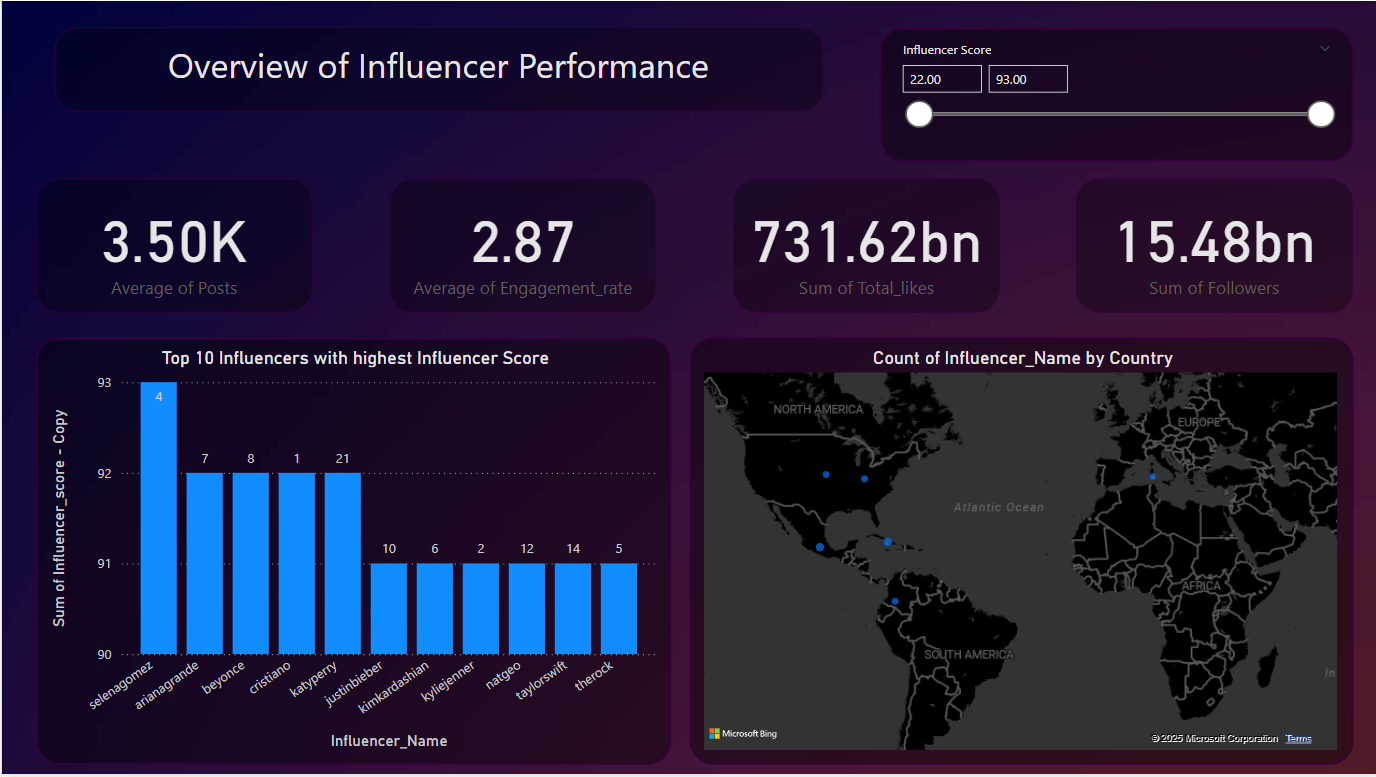

The dashboard page shown, as its layout file describes it:
{"tool":"powerbi","page":{"name":"Dashboard Pg1","canvas":[1280,720],"ordinal":0},"visuals":[{"type":"card","fields":{"Values":["Sum(top_insta_influencers_data.Followers)"]},"box":[999,164.7,258,124.9],"z":0},{"type":"card","fields":{"Values":["Sum(top_insta_influencers_data.Total_likes)"]},"box":[679.7,164.7,248.4,124.9],"z":1000},{"type":"columnChart","title":"Top 10 Influencers with highest Influencer Score","fields":{"Category":["top_insta_influencers_data.Influencer_Name"],"Y":["Sum(top_insta_influencers_data.Influencer_score - Copy)"]},"box":[31.6,312.9,591.4,397.9],"z":2000},{"type":"card","fields":{"Values":["Avg(top_insta_influencers_data.Posts)"]},"box":[31.6,164.7,258,124.9],"z":3000},{"type":"card","fields":{"Values":["Avg(top_insta_influencers_data.Engagement_rate)"]},"box":[360.4,164.7,248.4,124.9],"z":4000},{"type":"map","fields":{"Category":["top_insta_influencers_data.Country"],"Size":["CountNonNull(top_insta_influencers_data.Influencer_Name)"]},"box":[639.5,312.9,617.5,397.9],"z":5000},{"type":"slicer","fields":{"Values":["top_insta_influencers_data.Influencer_score - Copy"]},"box":[816.5,24.7,440.5,124.9],"z":6000},{"type":"textbox","box":[49.4,24.7,714.9,78.2],"z":7000}]}

Visuals, with their boxes in screenshot pixels (x1, y1, x2, y2), scaled from the page's 1280x720 canvas onto the 1376x777 screenshot:
card - Sum(top_insta_influencers_data.Followers): bbox=[1074, 178, 1351, 313]
card - Sum(top_insta_influencers_data.Total_likes): bbox=[731, 178, 998, 313]
"Top 10 Influencers with highest Influencer Score" columnChart: bbox=[34, 338, 670, 767]
card - Avg(top_insta_influencers_data.Posts): bbox=[34, 178, 311, 313]
card - Avg(top_insta_influencers_data.Engagement_rate): bbox=[387, 178, 654, 313]
map - top_insta_influencers_data.Country x CountNonNull(top_insta_influencers_data.Influencer_Name): bbox=[687, 338, 1351, 767]
slicer - top_insta_influencers_data.Influencer_score - Copy: bbox=[878, 27, 1351, 161]
textbox: bbox=[53, 27, 822, 111]
